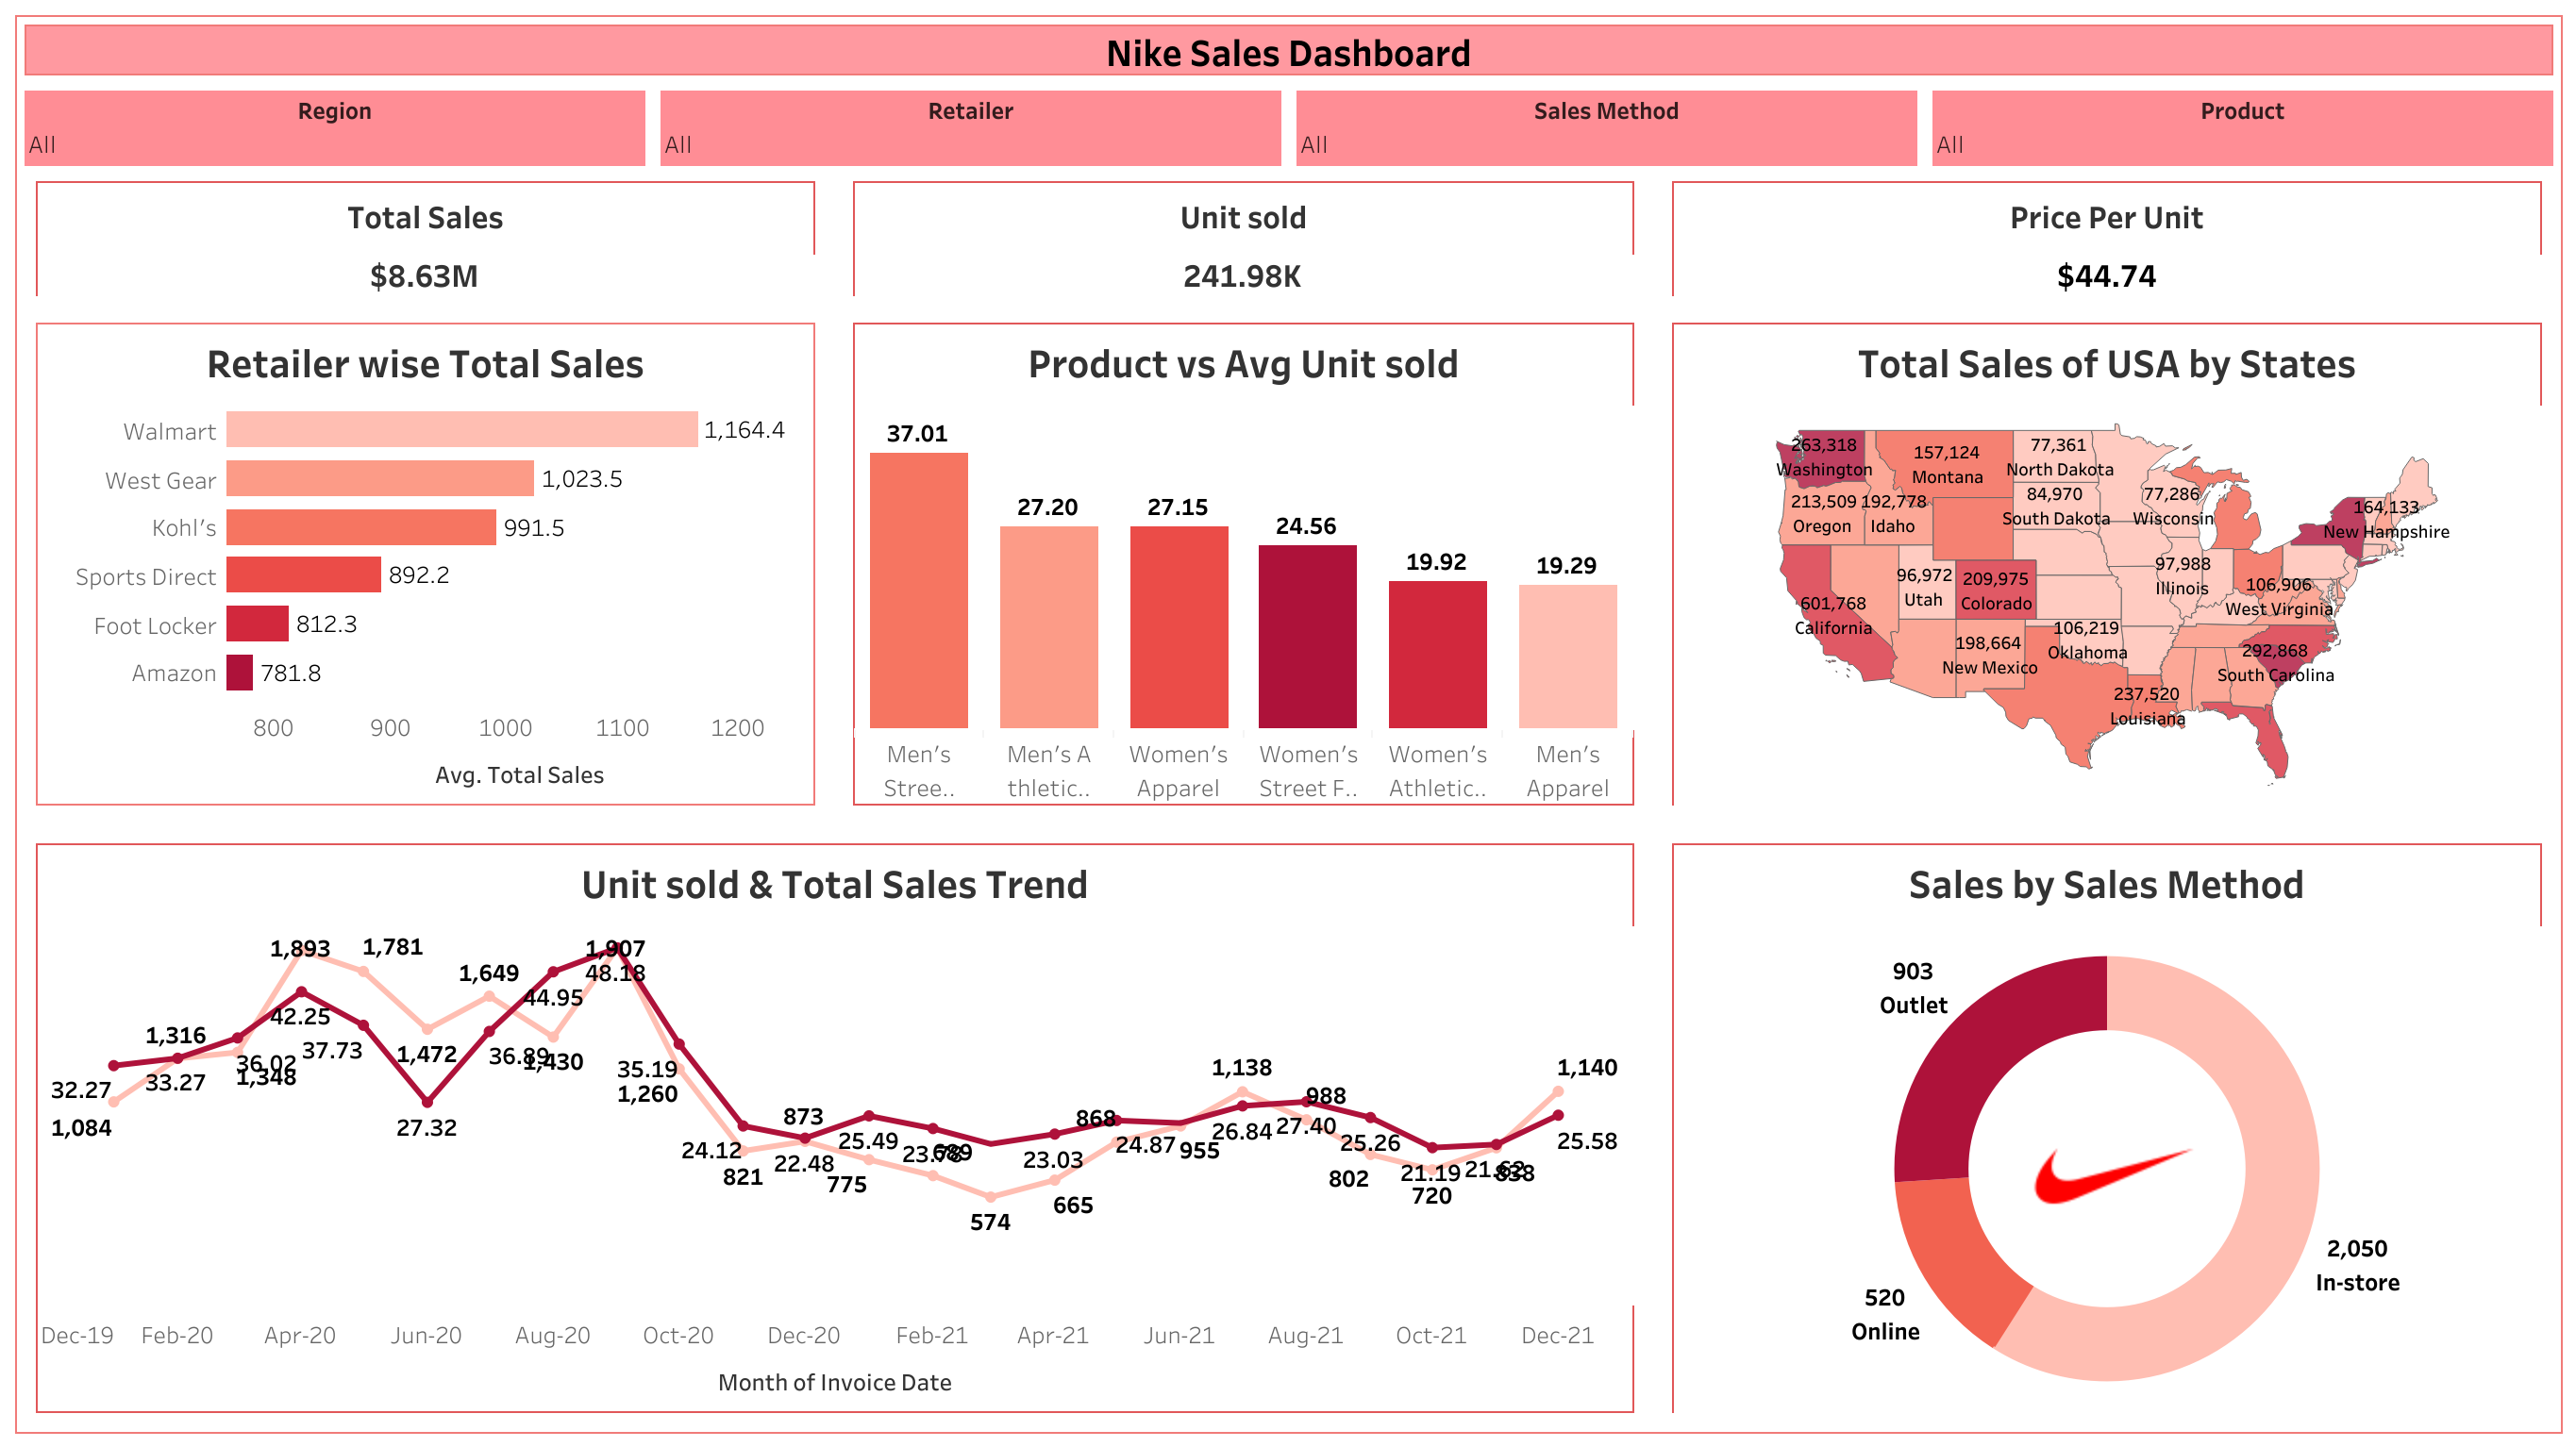

Layout of this report page (visuals, bound fields, positions):
{"tool":"tableau","page":{"name":"Dashboard 1","canvas":[1366,768],"ordinal":0},"visuals":[{"type":"title","box":[9,9,1348,35]},{"type":"filter","title":"Product Vs Avg Unit sold","param":"[federated.0fiknac06fz2wd1efpyz40y0fmqo].[none:Region:nk]","box":[9,44,337,48]},{"type":"filter","title":"Product Vs Avg Unit sold","param":"[federated.0fiknac06fz2wd1efpyz40y0fmqo].[none:Retailer:nk]","box":[346,44,337,48]},{"type":"filter","title":"Product Vs Avg Unit sold","param":"[federated.0fiknac06fz2wd1efpyz40y0fmqo].[none:Sales Method:nk]","box":[683,44,337,48]},{"type":"filter","title":"Product Vs Avg Unit sold","param":"[federated.0fiknac06fz2wd1efpyz40y0fmqo].[none:Product:nk]","box":[1020,44,337,48]},{"type":"worksheet","title":"Sheet 10","mark":"Automatic","box":[9,92.2,433.5,68.4]},{"type":"worksheet","title":"Sheet 11","mark":"Automatic","box":[442.5,92.2,433.5,68.4]},{"type":"worksheet","title":"Sheet 12","mark":"Automatic","box":[876,92.2,481,68.4]},{"type":"worksheet","title":"Reailer wise Total Sales","mark":"Automatic","rows":["Retailer"],"cols":["Total Sales"],"box":[9,160.6,433.5,276.2]},{"type":"worksheet","title":"Product Vs Avg Unit sold","mark":"Automatic","rows":["Units Sold"],"cols":["Product"],"box":[442.5,160.6,433.5,276.2]},{"type":"worksheet","title":"Map","mark":"Automatic","box":[876,160.6,481,276.2]},{"type":"worksheet","title":"Trend ","mark":"Automatic","rows":["Total Sales","Units Sold"],"cols":["Invoice Date"],"box":[9,436.8,867,322.2]},{"type":"worksheet","title":"Sales by Sales Method","mark":"Pie","rows":["Calculation_1051309099901595652","Calculation_1051309099901595652"],"box":[876,436.8,481,322.2]},{"type":"image","param":"Image/red-nike-logos-brands-logotypes-png-24.png","box":[1077,567.4,85.6,111.6]}]}

Visuals, with their boxes in screenshot pixels (x1, y1, x2, y2), scaled from the page's 1366x768 canvas onto the 2576x1447 screenshot:
title: (x1=17, y1=17, x2=2559, y2=83)
"Product Vs Avg Unit sold" filter: (x1=17, y1=83, x2=652, y2=174)
"Product Vs Avg Unit sold" filter: (x1=652, y1=83, x2=1288, y2=174)
"Product Vs Avg Unit sold" filter: (x1=1288, y1=83, x2=1924, y2=174)
"Product Vs Avg Unit sold" filter: (x1=1924, y1=83, x2=2559, y2=174)
"Sheet 10" worksheet: (x1=17, y1=174, x2=834, y2=303)
"Sheet 11" worksheet: (x1=834, y1=174, x2=1652, y2=303)
"Sheet 12" worksheet: (x1=1652, y1=174, x2=2559, y2=303)
"Reailer wise Total Sales" worksheet: (x1=17, y1=303, x2=834, y2=823)
"Product Vs Avg Unit sold" worksheet: (x1=834, y1=303, x2=1652, y2=823)
"Map" worksheet: (x1=1652, y1=303, x2=2559, y2=823)
"Trend " worksheet: (x1=17, y1=823, x2=1652, y2=1430)
"Sales by Sales Method" worksheet (Pie marks): (x1=1652, y1=823, x2=2559, y2=1430)
image: (x1=2031, y1=1069, x2=2192, y2=1279)
